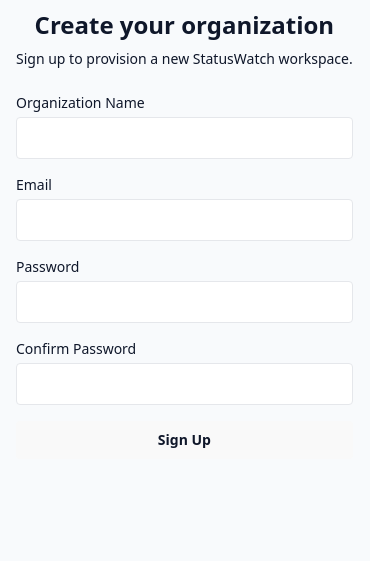
it: RegisterPage › shows error for empty fields
The image size is (370, 561).
Click the button "Sign Up": click(184, 440) [16, 421, 353, 459]
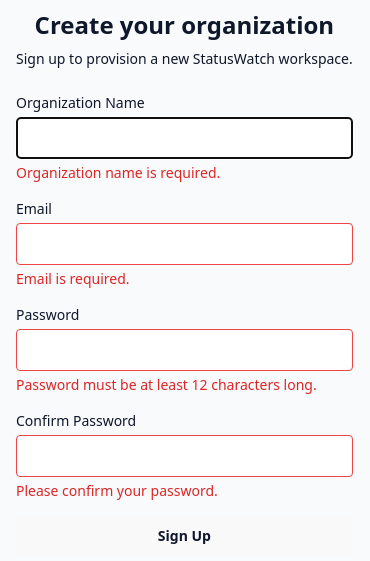
Now the text "Organization name is required." is shown, box [16, 163, 220, 182]
Now the text "Email is required." is shown, box [16, 269, 130, 288]
Now the text "Password must be at least 12 characters long." is shown, box [16, 375, 353, 395]
